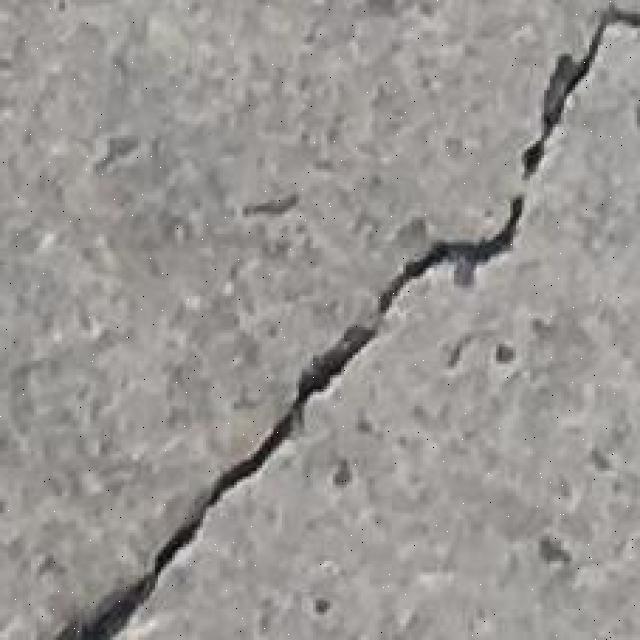crack: (0, 1, 638, 640)
